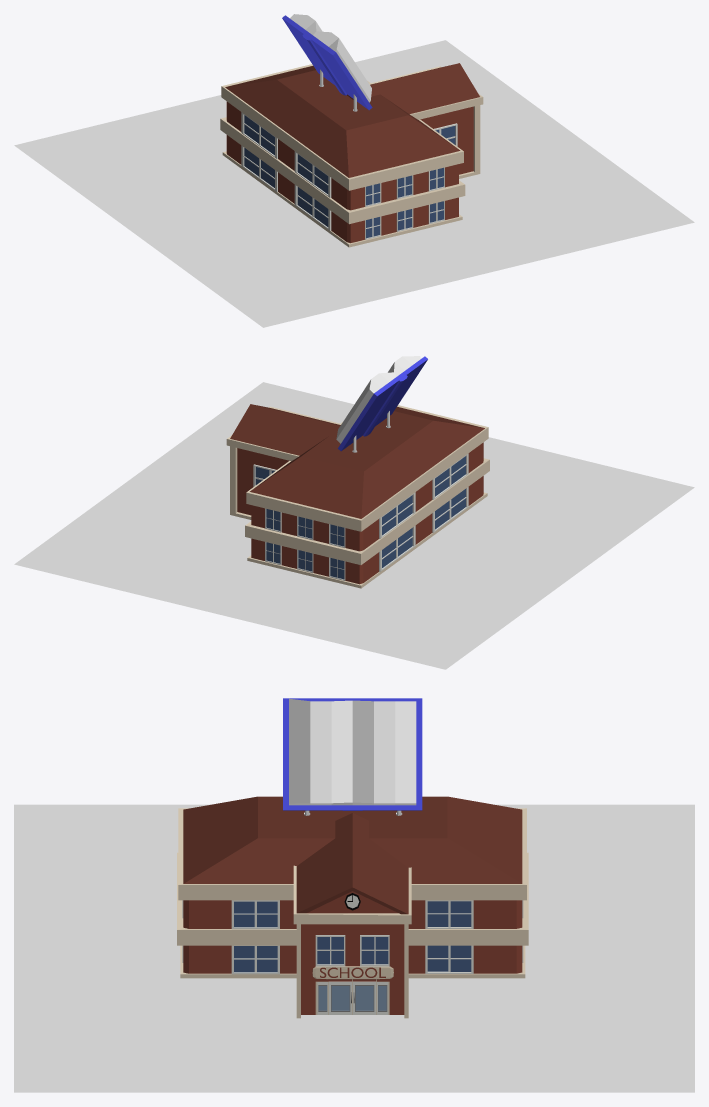
Rendered from lowpoly school.fbx.
3 views of the same model, one above another, from view 1: azimuth 30°, elevation 25°; view 2: azimuth 150°, elevation 25°; view 3: azimuth 270°, elevation 25° (orthographic). The views are drawn at different scales.
Parts seen in each view (by area): view 1: Plane, Main building, Entrance, Giant book; view 2: Plane, Main building, Entrance, Giant book; view 3: Plane, Main building, Entrance, Giant book, Interior, School sign, Door frame.001, Door frame.014.
Boxes of the visible parts, x1,y1,x2,y2 form: Plane: (14,40,694,327); Main building: (220,64,465,247); Entrance: (347,63,483,178); Giant book: (282,14,372,110); Plane: (14,382,694,669); Main building: (245,405,489,588); Entrance: (226,404,363,519); Giant book: (336,356,427,451); Plane: (14,804,694,1092); Main building: (177,796,528,978); Entrance: (293,813,411,1018); Giant book: (283,698,422,810); Interior: (319,986,386,1009); School sign: (312,966,393,979); Door frame.001: (329,981,352,1014); Door frame.014: (353,981,376,1014).
Size of the model in its own units: 5875 by 2286 by 5875.
